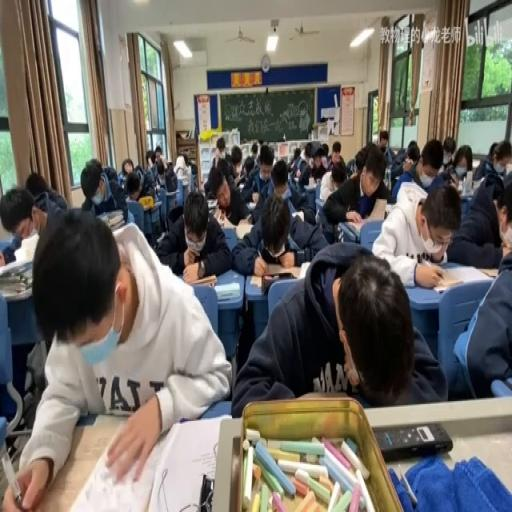calculator: (440, 263, 493, 286), (250, 266, 300, 289), (0, 278, 32, 302), (0, 257, 30, 278), (214, 280, 240, 300), (236, 218, 254, 240), (340, 219, 358, 240), (185, 272, 216, 284), (212, 206, 229, 224), (298, 260, 311, 279), (470, 176, 484, 192), (291, 208, 304, 222), (206, 196, 217, 209), (383, 206, 392, 219), (155, 232, 165, 243), (179, 175, 190, 183), (149, 198, 160, 206), (472, 158, 480, 168), (308, 175, 314, 188), (246, 202, 255, 210)
paper: (6, 206, 228, 509), (233, 242, 440, 415), (453, 186, 512, 400), (373, 180, 459, 284), (230, 186, 326, 273), (324, 142, 391, 232), (0, 184, 52, 264), (202, 162, 252, 226), (79, 158, 125, 222), (470, 141, 510, 183), (414, 138, 444, 189), (444, 145, 474, 191), (286, 142, 313, 186), (154, 156, 178, 194), (496, 186, 512, 242), (270, 158, 288, 195), (374, 129, 392, 165), (24, 171, 46, 199), (140, 165, 158, 199), (330, 140, 346, 174), (125, 170, 142, 200), (258, 145, 274, 174), (212, 135, 227, 165), (389, 145, 406, 166), (352, 148, 366, 173), (242, 156, 256, 180), (406, 140, 420, 164), (332, 172, 345, 191), (319, 142, 328, 165), (346, 158, 356, 178), (249, 139, 258, 161), (187, 159, 197, 178), (122, 158, 134, 173), (231, 154, 241, 170), (146, 151, 155, 168), (181, 155, 190, 169), (298, 142, 308, 154), (154, 149, 160, 161), (258, 138, 264, 148)
person: (374, 422, 452, 461), (198, 474, 213, 509)
